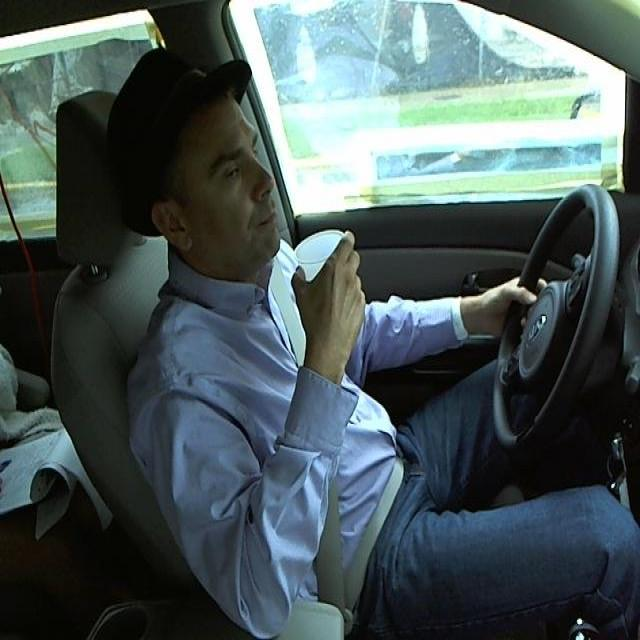drinking: (294, 224, 367, 344)
